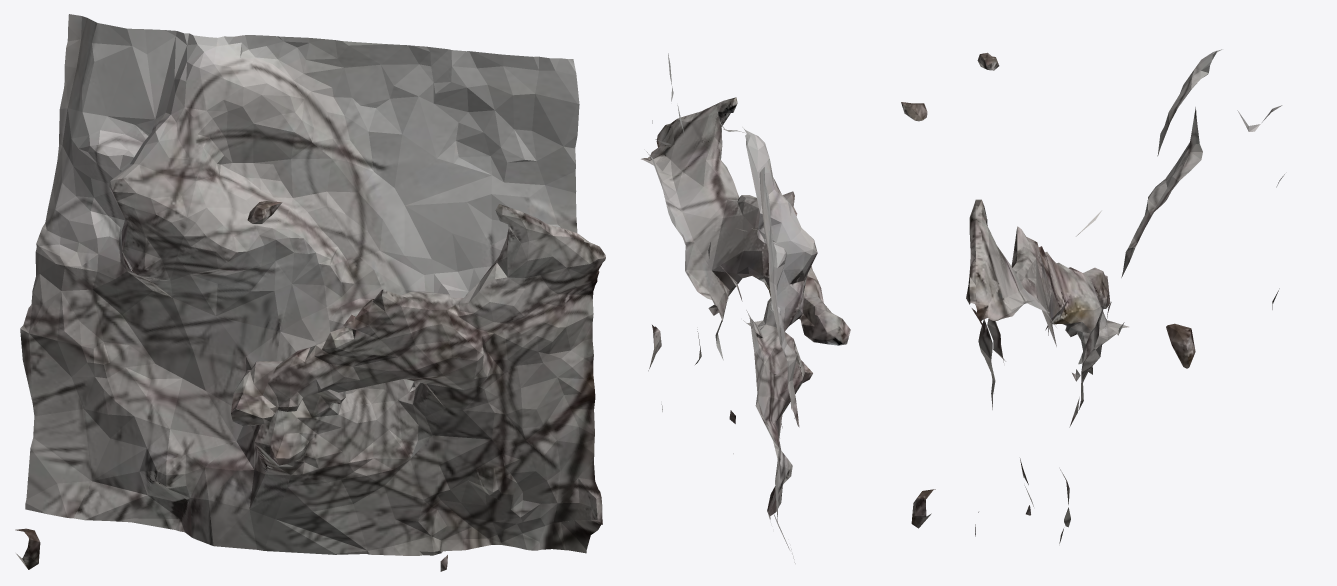
The picture shows the model from 3 angles, left to right: view 1: azimuth 30°, elevation 25°; view 2: azimuth 150°, elevation 25°; view 3: azimuth 270°, elevation 25°; orthographic projection. The views are drawn at different scales.
Bounding box in the file's own units: 0.8373 × 0.8374 × 0.6479.
3 materials, 3 textured.
